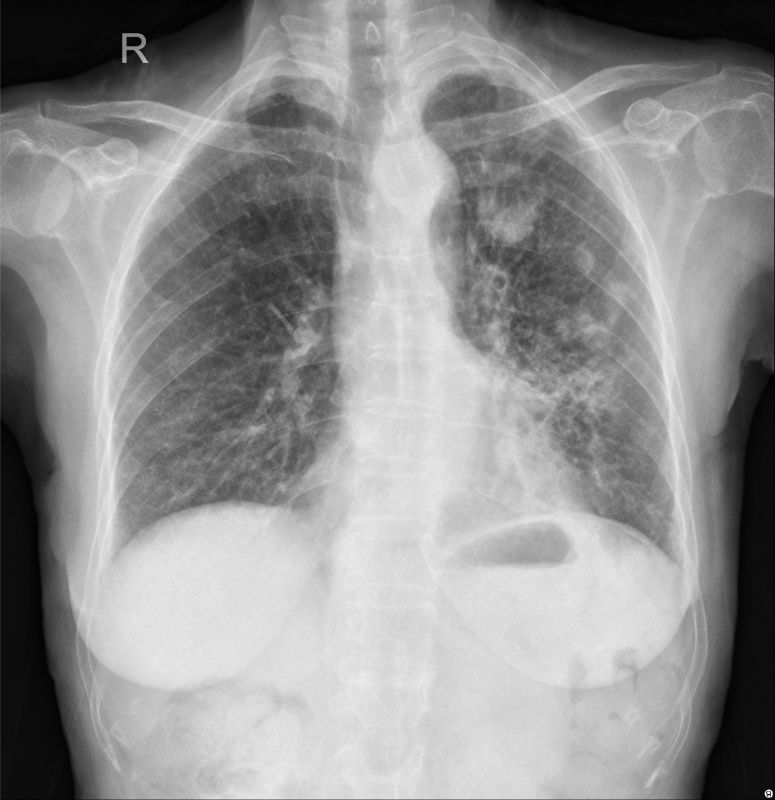Tuberculosis: (560, 265, 639, 415), (469, 202, 540, 341)
